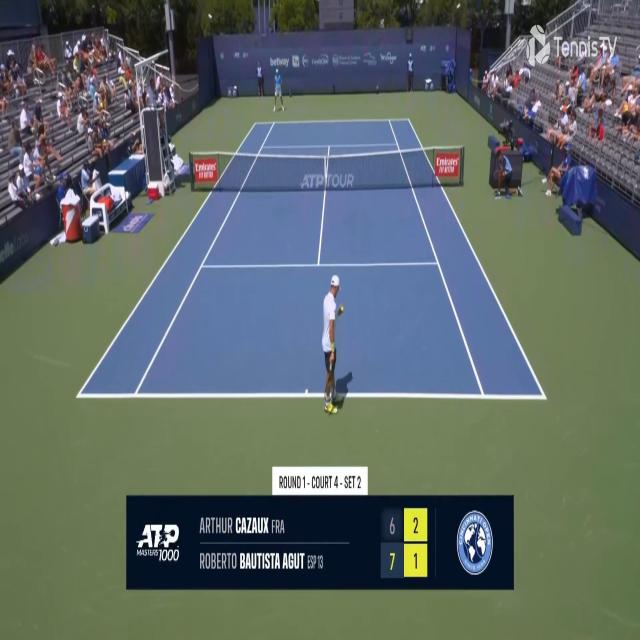tennis-player: (320, 273, 353, 417), (272, 66, 286, 114)
